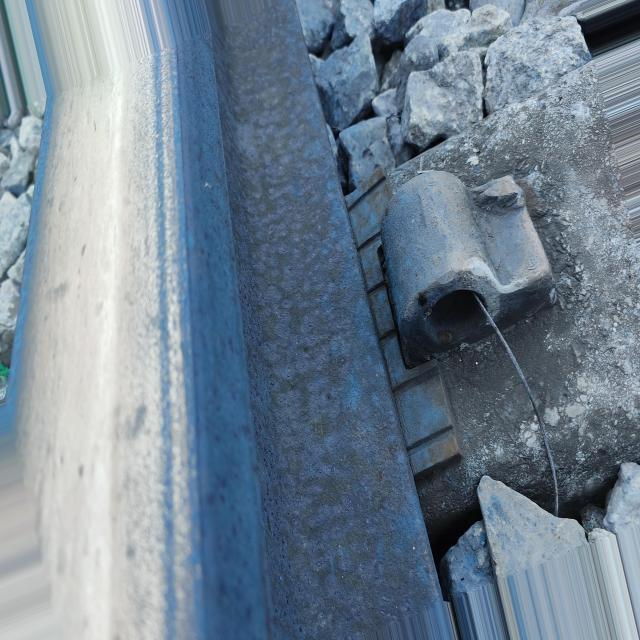Good Fasteners: (363, 141, 596, 399)
